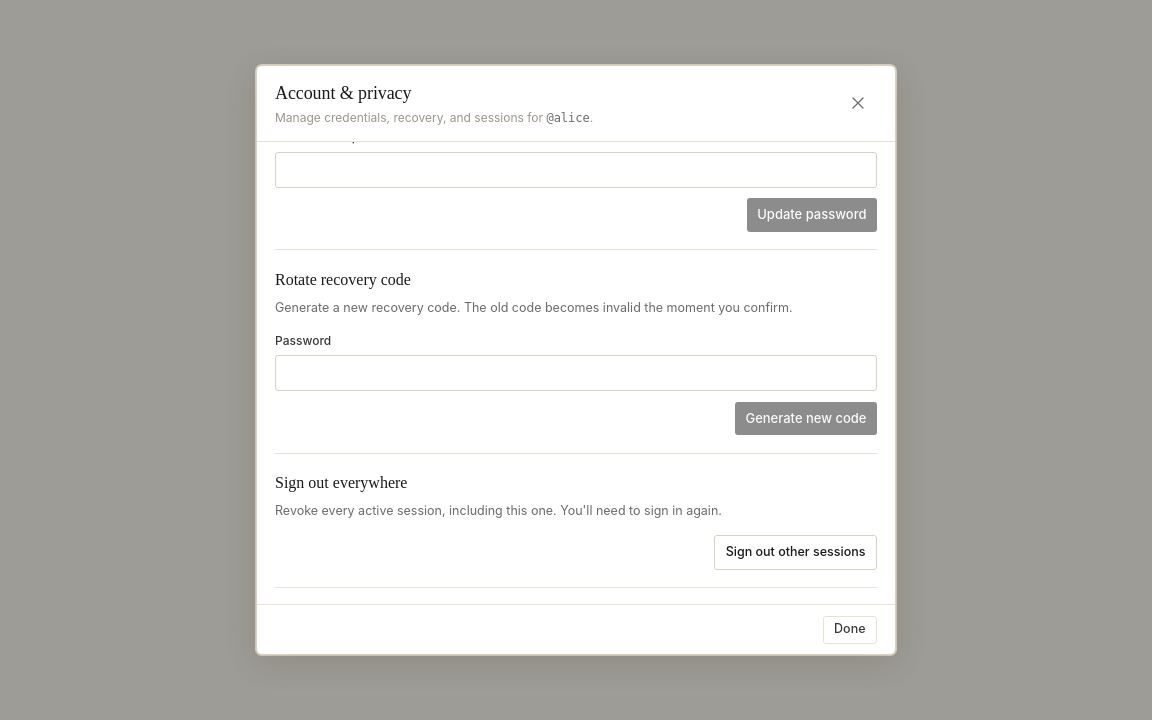
Test case: <AccountPrivacyModal> › rotate-recovery: 401 → generic invalid-credentials message; password input retained for retry
(page scrolled)
Step 1. Type "wrong" into the password field labelled "Password" → coordinates (576, 373), box [275, 355, 877, 391]
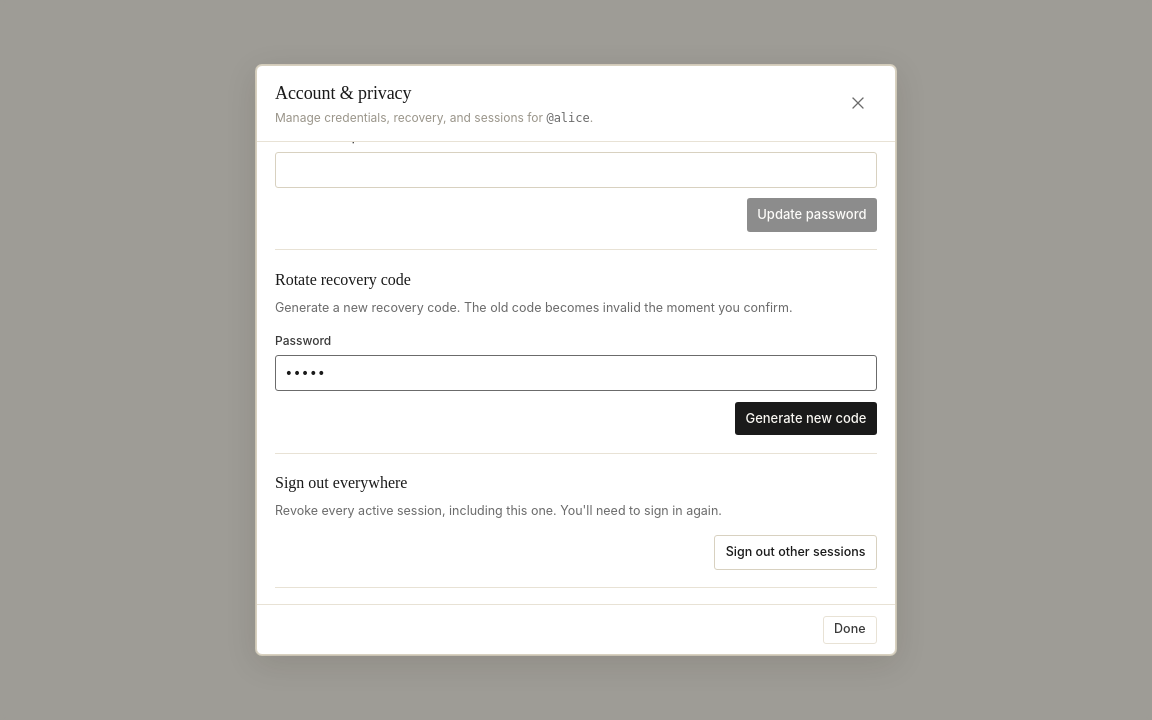
Step 2. Click the button "Generate new code" → coordinates (806, 418), box [735, 402, 877, 435]
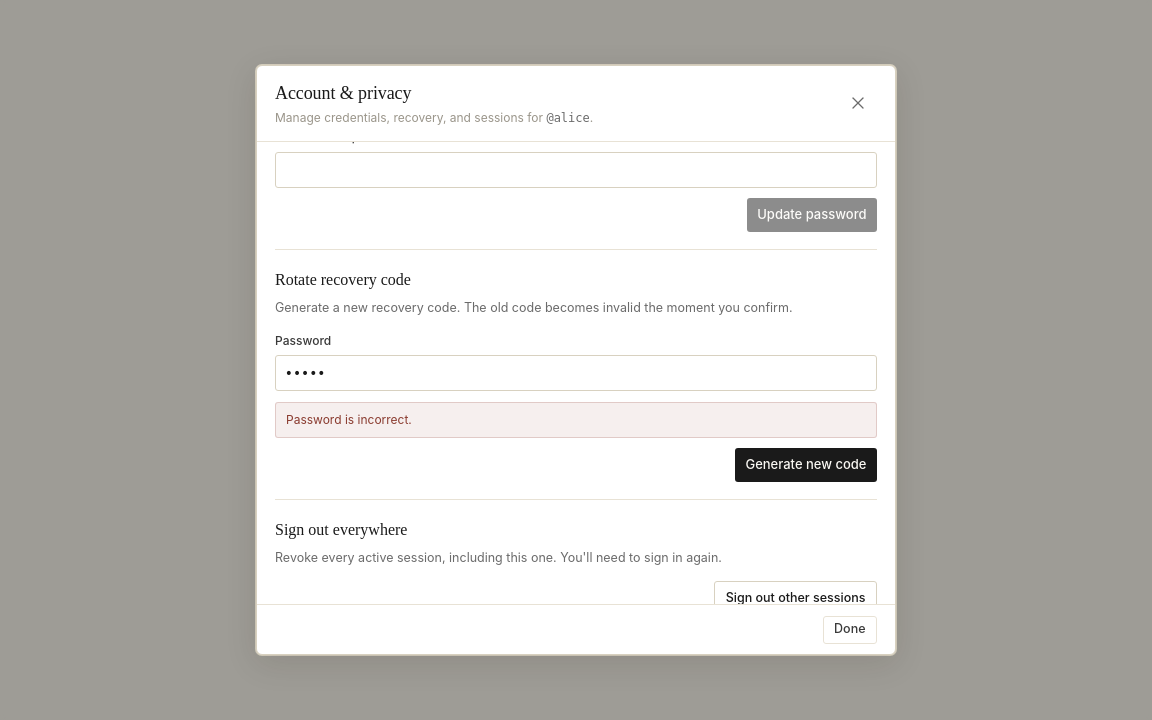
Expected: the text "Password is incorrect." is shown, [275, 402, 877, 438]
